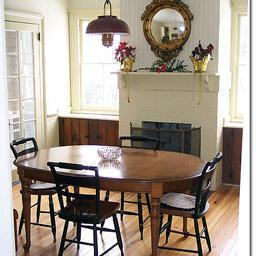Puerta: (7, 24, 47, 182)
Ventana: (71, 15, 122, 111), (232, 14, 248, 123)
